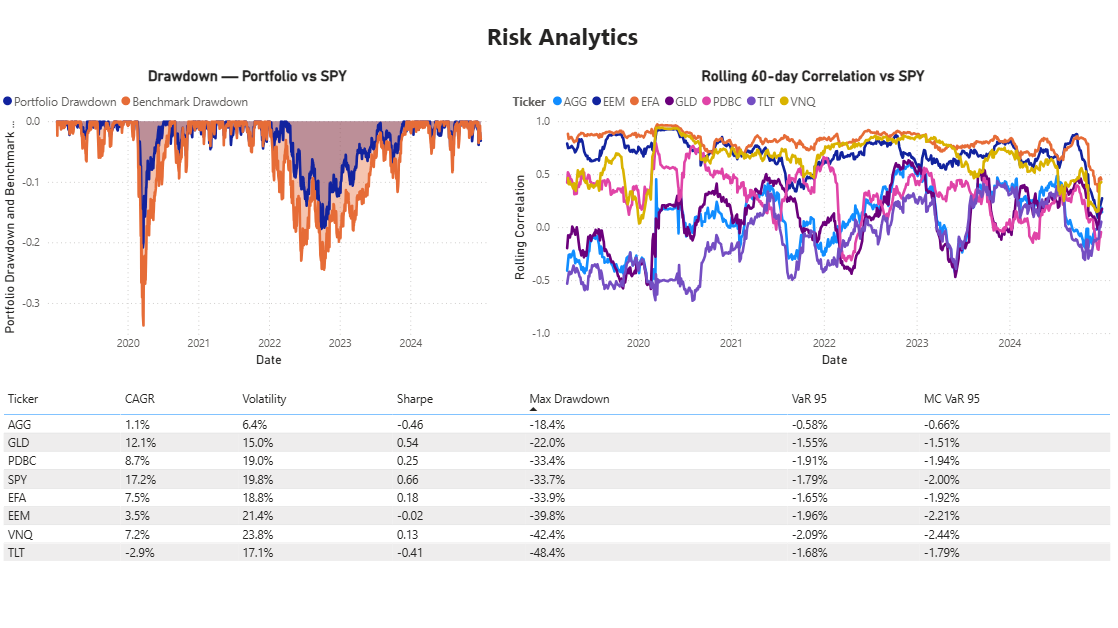

Layout of this report page (visuals, bound fields, positions):
{"tool":"powerbi","page":{"name":"Risk Analytics","canvas":[1280,720],"ordinal":1},"visuals":[{"type":"areaChart","title":"Drawdown — Portfolio vs SPY","fields":{"Y":["Avg(backtest_data.Portfolio_Drawdown)","Avg(backtest_data.Benchmark_Drawdown)"],"Category":["backtest_data.Date"]},"box":[0,77.1,570,348.6],"z":0},{"type":"lineChart","title":"Rolling 60-day Correlation vs SPY","fields":{"Y":["Avg(rolling_correlation.Rolling_Corr)"],"Series":["rolling_correlation.Ticker"],"Category":["rolling_correlation.Date"]},"box":[582.9,77.1,697.1,348.6],"z":1000},{"type":"tableEx","fields":{"Values":["metrics.Ticker","metrics.CAGR %","metrics.Volatility %","metrics.Sharpe Display","metrics.Max Drawdown %","metrics.VaR 95%","metrics.MC VaR 95%"]},"box":[0,441.4,1280,278.6],"z":2000},{"type":"textbox","box":[492.9,18.6,304.3,58.6],"z":3000}]}

Visuals, with their boxes in screenshot pixels (x1, y1, x2, y2), scaled from the page's 1280x720 canvas onto the 1118x628 screenshot:
"Drawdown — Portfolio vs SPY" areaChart: select_region(0, 67, 498, 371)
"Rolling 60-day Correlation vs SPY" lineChart: select_region(509, 67, 1117, 371)
tableEx - metrics.Ticker x metrics.CAGR %: select_region(0, 385, 1117, 627)
textbox: select_region(431, 16, 696, 67)
